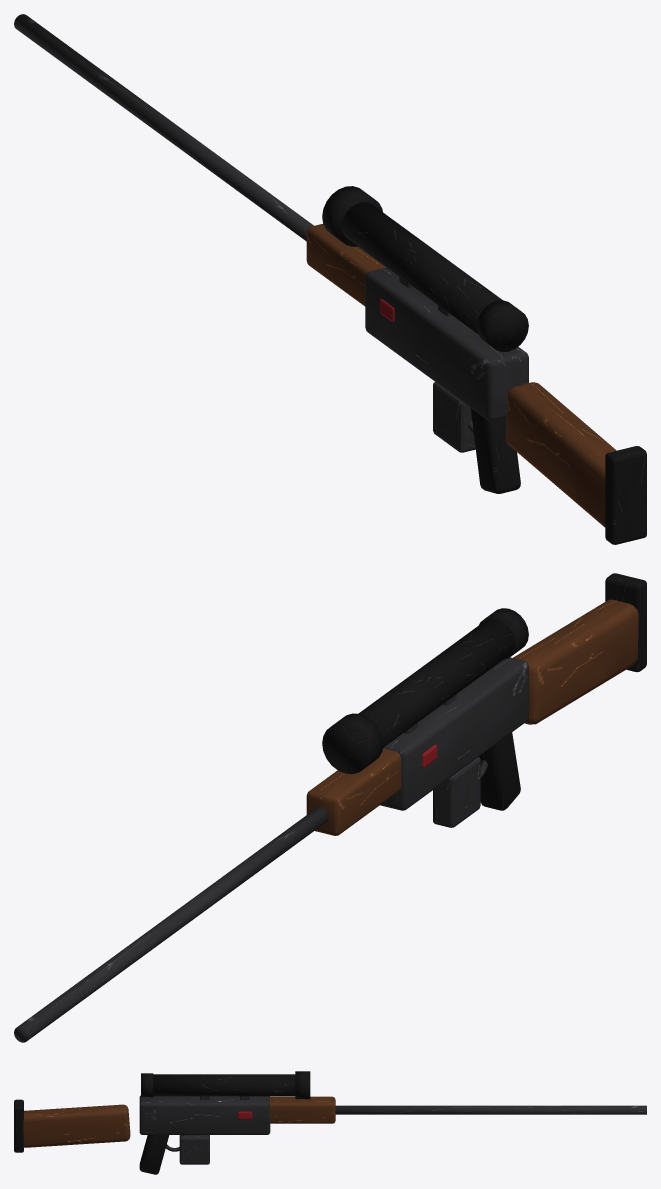
File: weapon-sniper.glb
3 renders of one model, top to bottom at view 1: azimuth 30°, elevation 25°; view 2: azimuth 150°, elevation 25°; view 3: azimuth 270°, elevation 25°, orthographic. The views are drawn at different scales.
Parts seen in each view (by area): view 1: Cube, Cube.002, Cylinder.001, Cylinder, Cube.003, Cube.001, Cube.004, Cylinder.003, Cube.005, Cylinder.002; view 2: Cube, Cube.002, Cylinder.001, Cylinder, Cube.001, Cylinder.002, Cube.005, Cube.004, Cube.003, Cylinder.003; view 3: Cube, Cube.002, Cylinder.001, Cylinder, Cube.001, Cube.005, Cube.004, Cube.003, Cylinder.002, Cylinder.003.
Part boxes in pixels (x1,y1,x2,y2): Cube: (365,267,528,421); Cube.002: (505,382,616,527); Cylinder.001: (341,202,502,333); Cylinder: (14,14,313,241); Cube.003: (605,446,646,544); Cube.001: (306,224,385,306); Cube.004: (470,408,520,493); Cylinder.003: (476,300,528,352); Cube.005: (433,382,475,452); Cylinder.002: (322,186,382,246); Cube: (380,657,528,810); Cube.002: (513,599,638,724); Cylinder.001: (358,619,514,747); Cylinder: (14,807,328,1042); Cube.001: (306,748,401,835); Cylinder.002: (322,713,383,774); Cube.005: (433,757,480,827); Cube.004: (479,732,520,810); Cube.003: (605,573,646,672); Cylinder.003: (479,608,528,659); Cube: (139,1095,270,1134); Cube.002: (23,1104,130,1147); Cylinder.001: (153,1074,295,1096); Cylinder: (335,1105,646,1114); Cube.001: (269,1096,335,1123); Cube.005: (179,1135,209,1164); Cube.004: (139,1135,169,1174); Cube.003: (14,1099,23,1152); Cylinder.002: (295,1071,310,1099); Cylinder.003: (141,1073,153,1097).
Bounding box in the file's own units: 0.056 × 0.2197 × 1.26.
4 materials, 3 textured.
